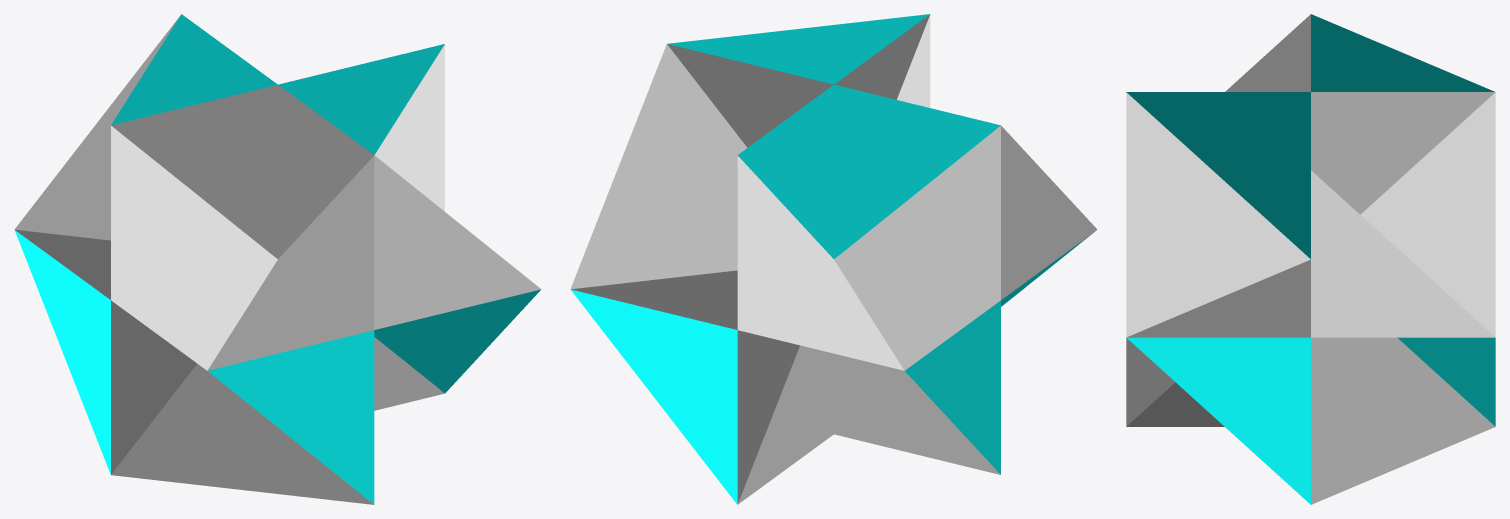
The model's file is skin_12_2_model.fbx.
3 renders of one model, left to right at view 1: azimuth 30°, elevation 25°; view 2: azimuth 150°, elevation 25°; view 3: azimuth 270°, elevation 25°, orthographic. The views are drawn at different scales.
Visible parts, largest first — view 1: Cube; view 2: Cube; view 3: Cube.
Boxes of the visible parts, x1=… form: Cube: x1=14, y1=14, x2=541, y2=504; Cube: x1=570, y1=14, x2=1097, y2=504; Cube: x1=1126, y1=14, x2=1495, y2=504.
Bounding box in the file's own units: 200 × 200 × 200.
